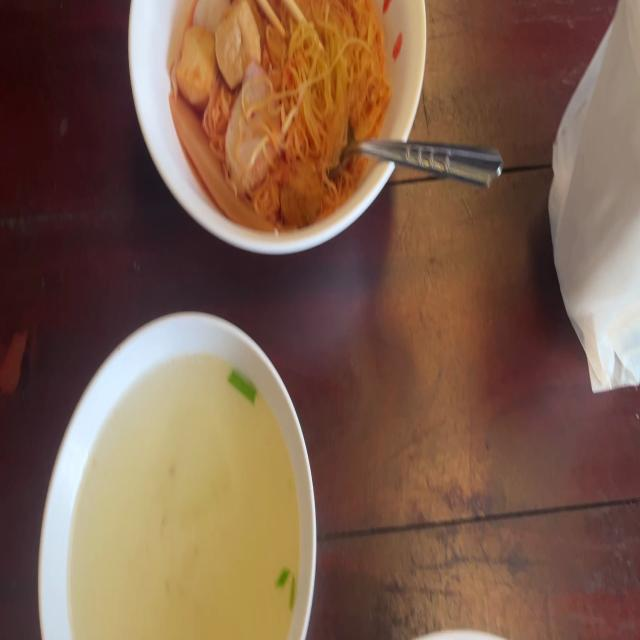crunchy_squid: (168, 86, 270, 235)
egg_noodles: (278, 0, 384, 169)
fish_ball: (196, 0, 230, 32)
fried_fish_balls: (222, 64, 276, 183)
fried_tofu: (218, 2, 257, 78)
noodle: (159, 0, 401, 224)
tofu: (180, 26, 214, 108)
